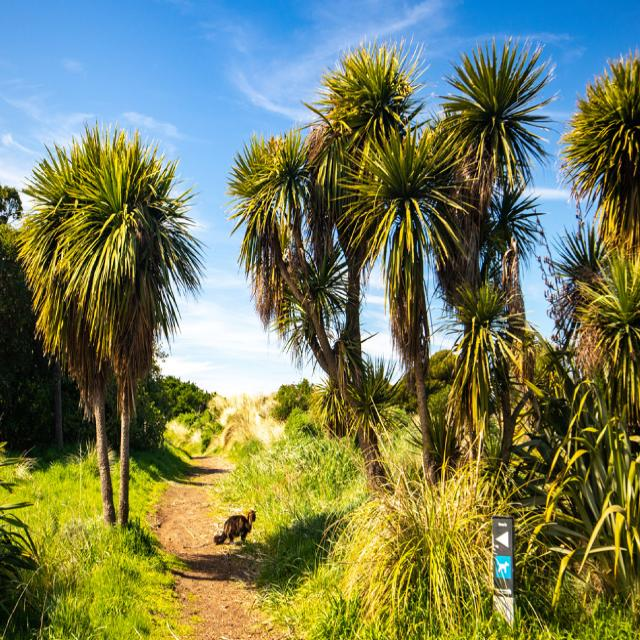Cordyline australis: (36, 147, 175, 528)
